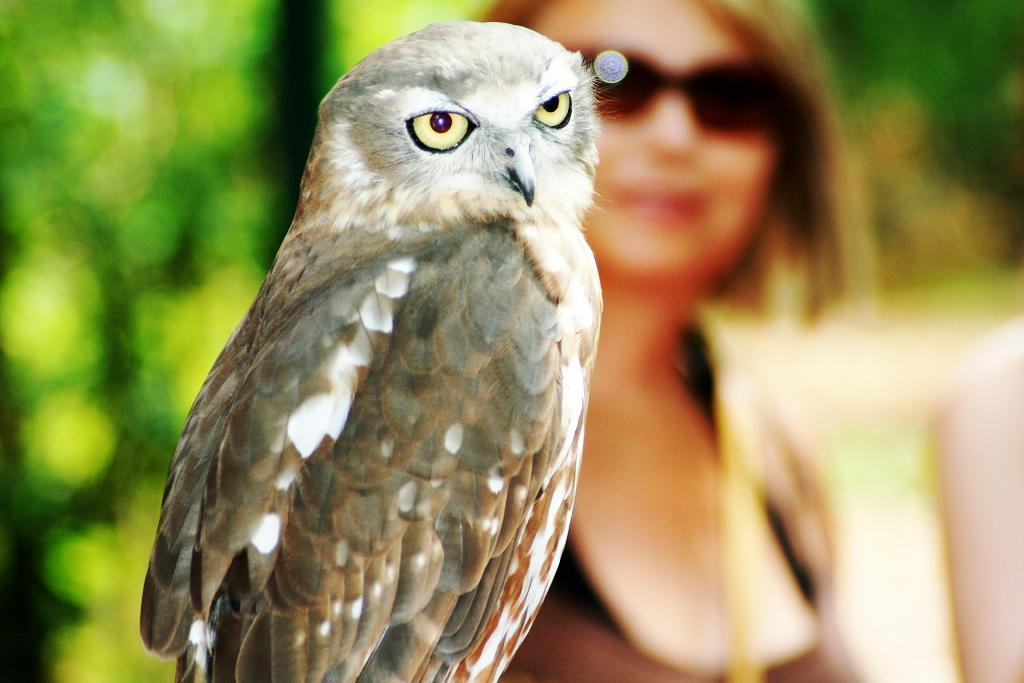Owl: (130, 3, 602, 683)
